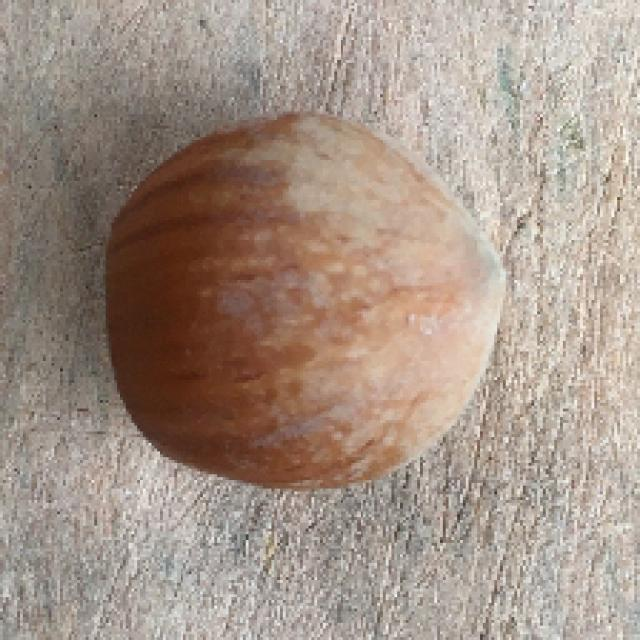qualityHazelnut: (92, 99, 518, 496)
